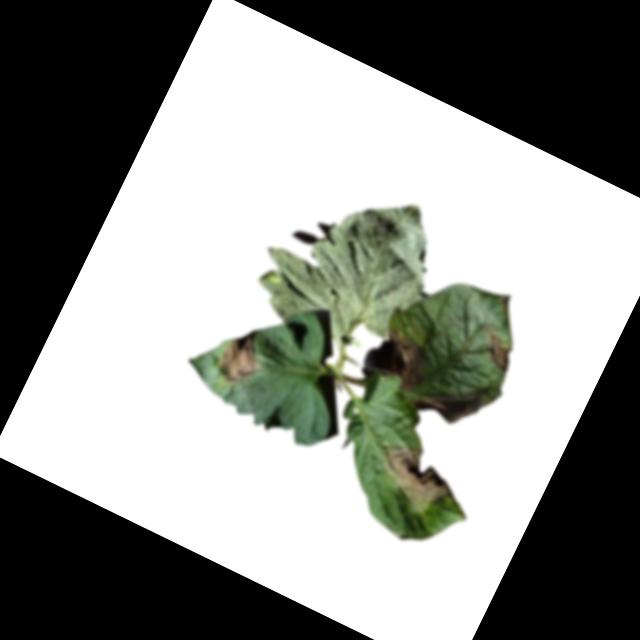Late_blight: (367, 432, 467, 523), (408, 373, 487, 437), (370, 327, 432, 393), (211, 324, 271, 391), (480, 329, 523, 375)
